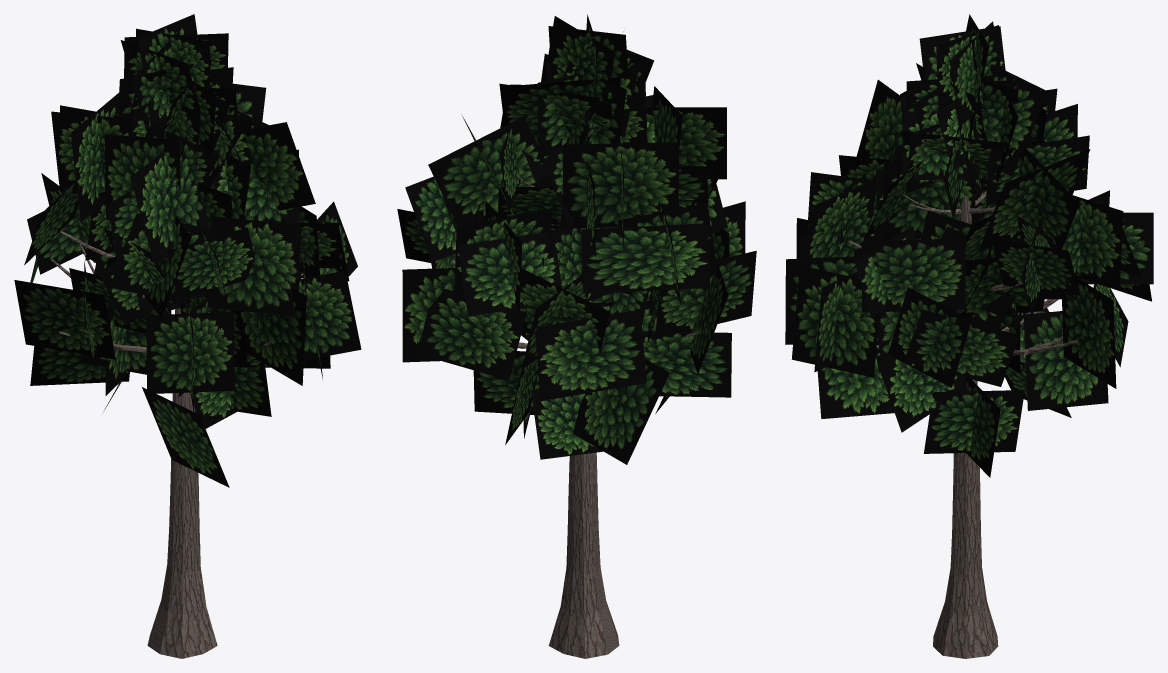
File: EvergreenTree.glb
3 renders of one model, left to right at view 1: azimuth 30°, elevation 25°; view 2: azimuth 150°, elevation 25°; view 3: azimuth 270°, elevation 25°, orthographic.
Parts seen in each view (by area): view 1: tree_evergreen; view 2: tree_evergreen; view 3: tree_evergreen.
Boxes of the visible parts, x1,y1,x2,y2 form: tree_evergreen: [14, 14, 361, 658]; tree_evergreen: [397, 14, 756, 658]; tree_evergreen: [785, 14, 1153, 658].
Size of the model in its own units: 7.28 by 12.69 by 6.94.
Materials: 2 (2 with a texture image).
